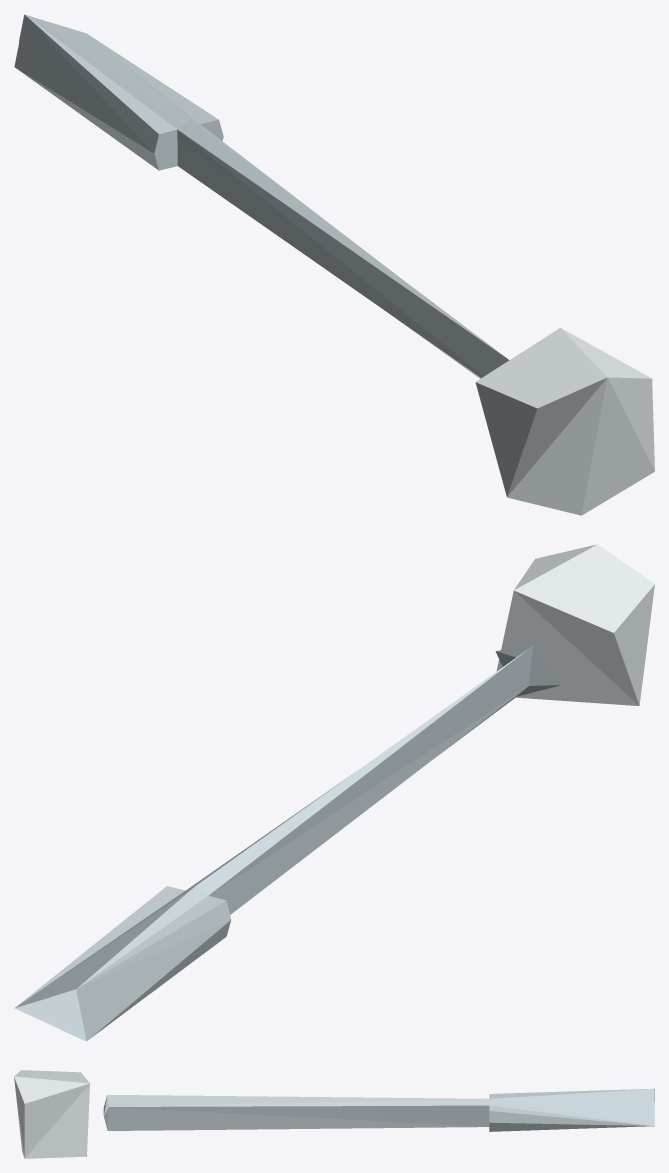
Rendered from qt-ld-178-geode.glb.
The picture shows the model from 3 angles, top to bottom: view 1: azimuth 30°, elevation 25°; view 2: azimuth 150°, elevation 25°; view 3: azimuth 270°, elevation 25°; orthographic projection. The views are drawn at different scales.
Parts seen in each view (by area): view 1: Node; view 2: Node; view 3: Node.
Part boxes in pixels (x1,y1,x2,y2): Node: (14,14,654,515); Node: (14,544,654,1041); Node: (14,1070,654,1158).
Size of the model in its own units: 0.276 by 0.28 by 2.02.
Materials: 1 (1 with a texture image).
